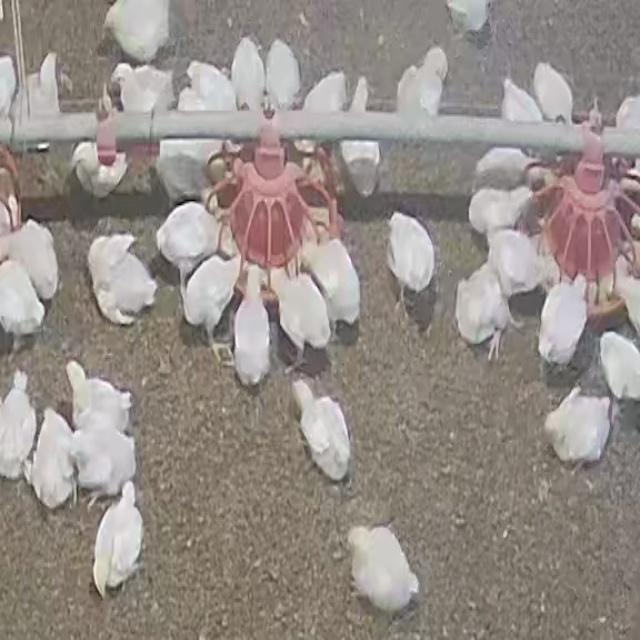chicken: (346, 522, 420, 618), (86, 232, 155, 325), (290, 377, 351, 482), (265, 269, 330, 363), (92, 484, 145, 598), (543, 386, 613, 470), (70, 416, 134, 507), (303, 234, 361, 332), (176, 254, 241, 334), (26, 408, 78, 508), (536, 275, 590, 369), (340, 76, 381, 199), (455, 268, 508, 359), (156, 200, 218, 274), (235, 263, 271, 389), (102, 1, 174, 63), (386, 210, 436, 298), (154, 140, 220, 205), (6, 218, 58, 298), (0, 257, 45, 345), (70, 137, 130, 202), (75, 371, 134, 436), (1, 371, 36, 478), (489, 226, 542, 296), (396, 48, 448, 117), (18, 52, 69, 120), (109, 62, 174, 115), (467, 186, 531, 238), (182, 60, 239, 114), (600, 332, 640, 402), (610, 252, 640, 342), (474, 144, 534, 188), (265, 38, 301, 111), (231, 37, 266, 111), (532, 62, 574, 123), (301, 71, 346, 116), (501, 78, 544, 124), (65, 359, 91, 426), (445, 1, 493, 34), (0, 54, 17, 119), (0, 198, 21, 248), (615, 95, 640, 129)
